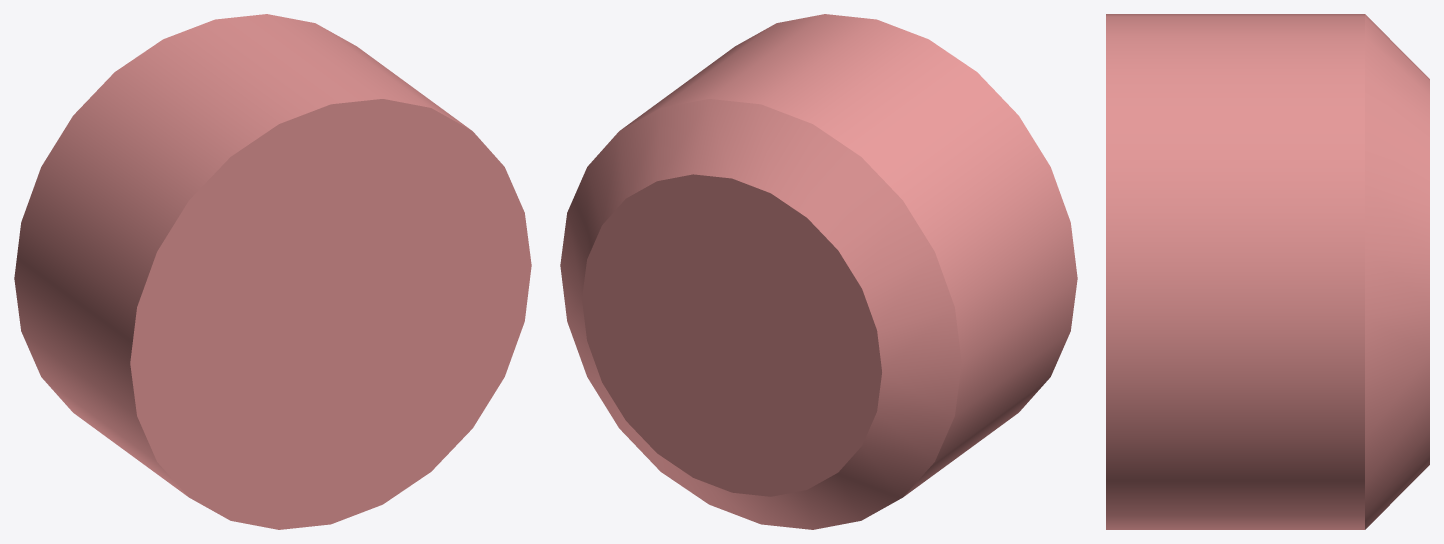
The model's file is eraser.dae.
3 renders of one model, left to right at view 1: azimuth 30°, elevation 25°; view 2: azimuth 150°, elevation 25°; view 3: azimuth 270°, elevation 25°, orthographic. The views are drawn at different scales.
Visible parts, largest first — view 1: group_0_003; view 2: group_0_003; view 3: group_0_003.
Part boxes in pixels (box(x1,y1,x2,y2)): group_0_003: box(14, 14, 531, 529); group_0_003: box(560, 14, 1077, 529); group_0_003: box(1106, 14, 1429, 529).
Bounding box in the file's own units: 0.00635 × 0.00397 × 0.00635.
